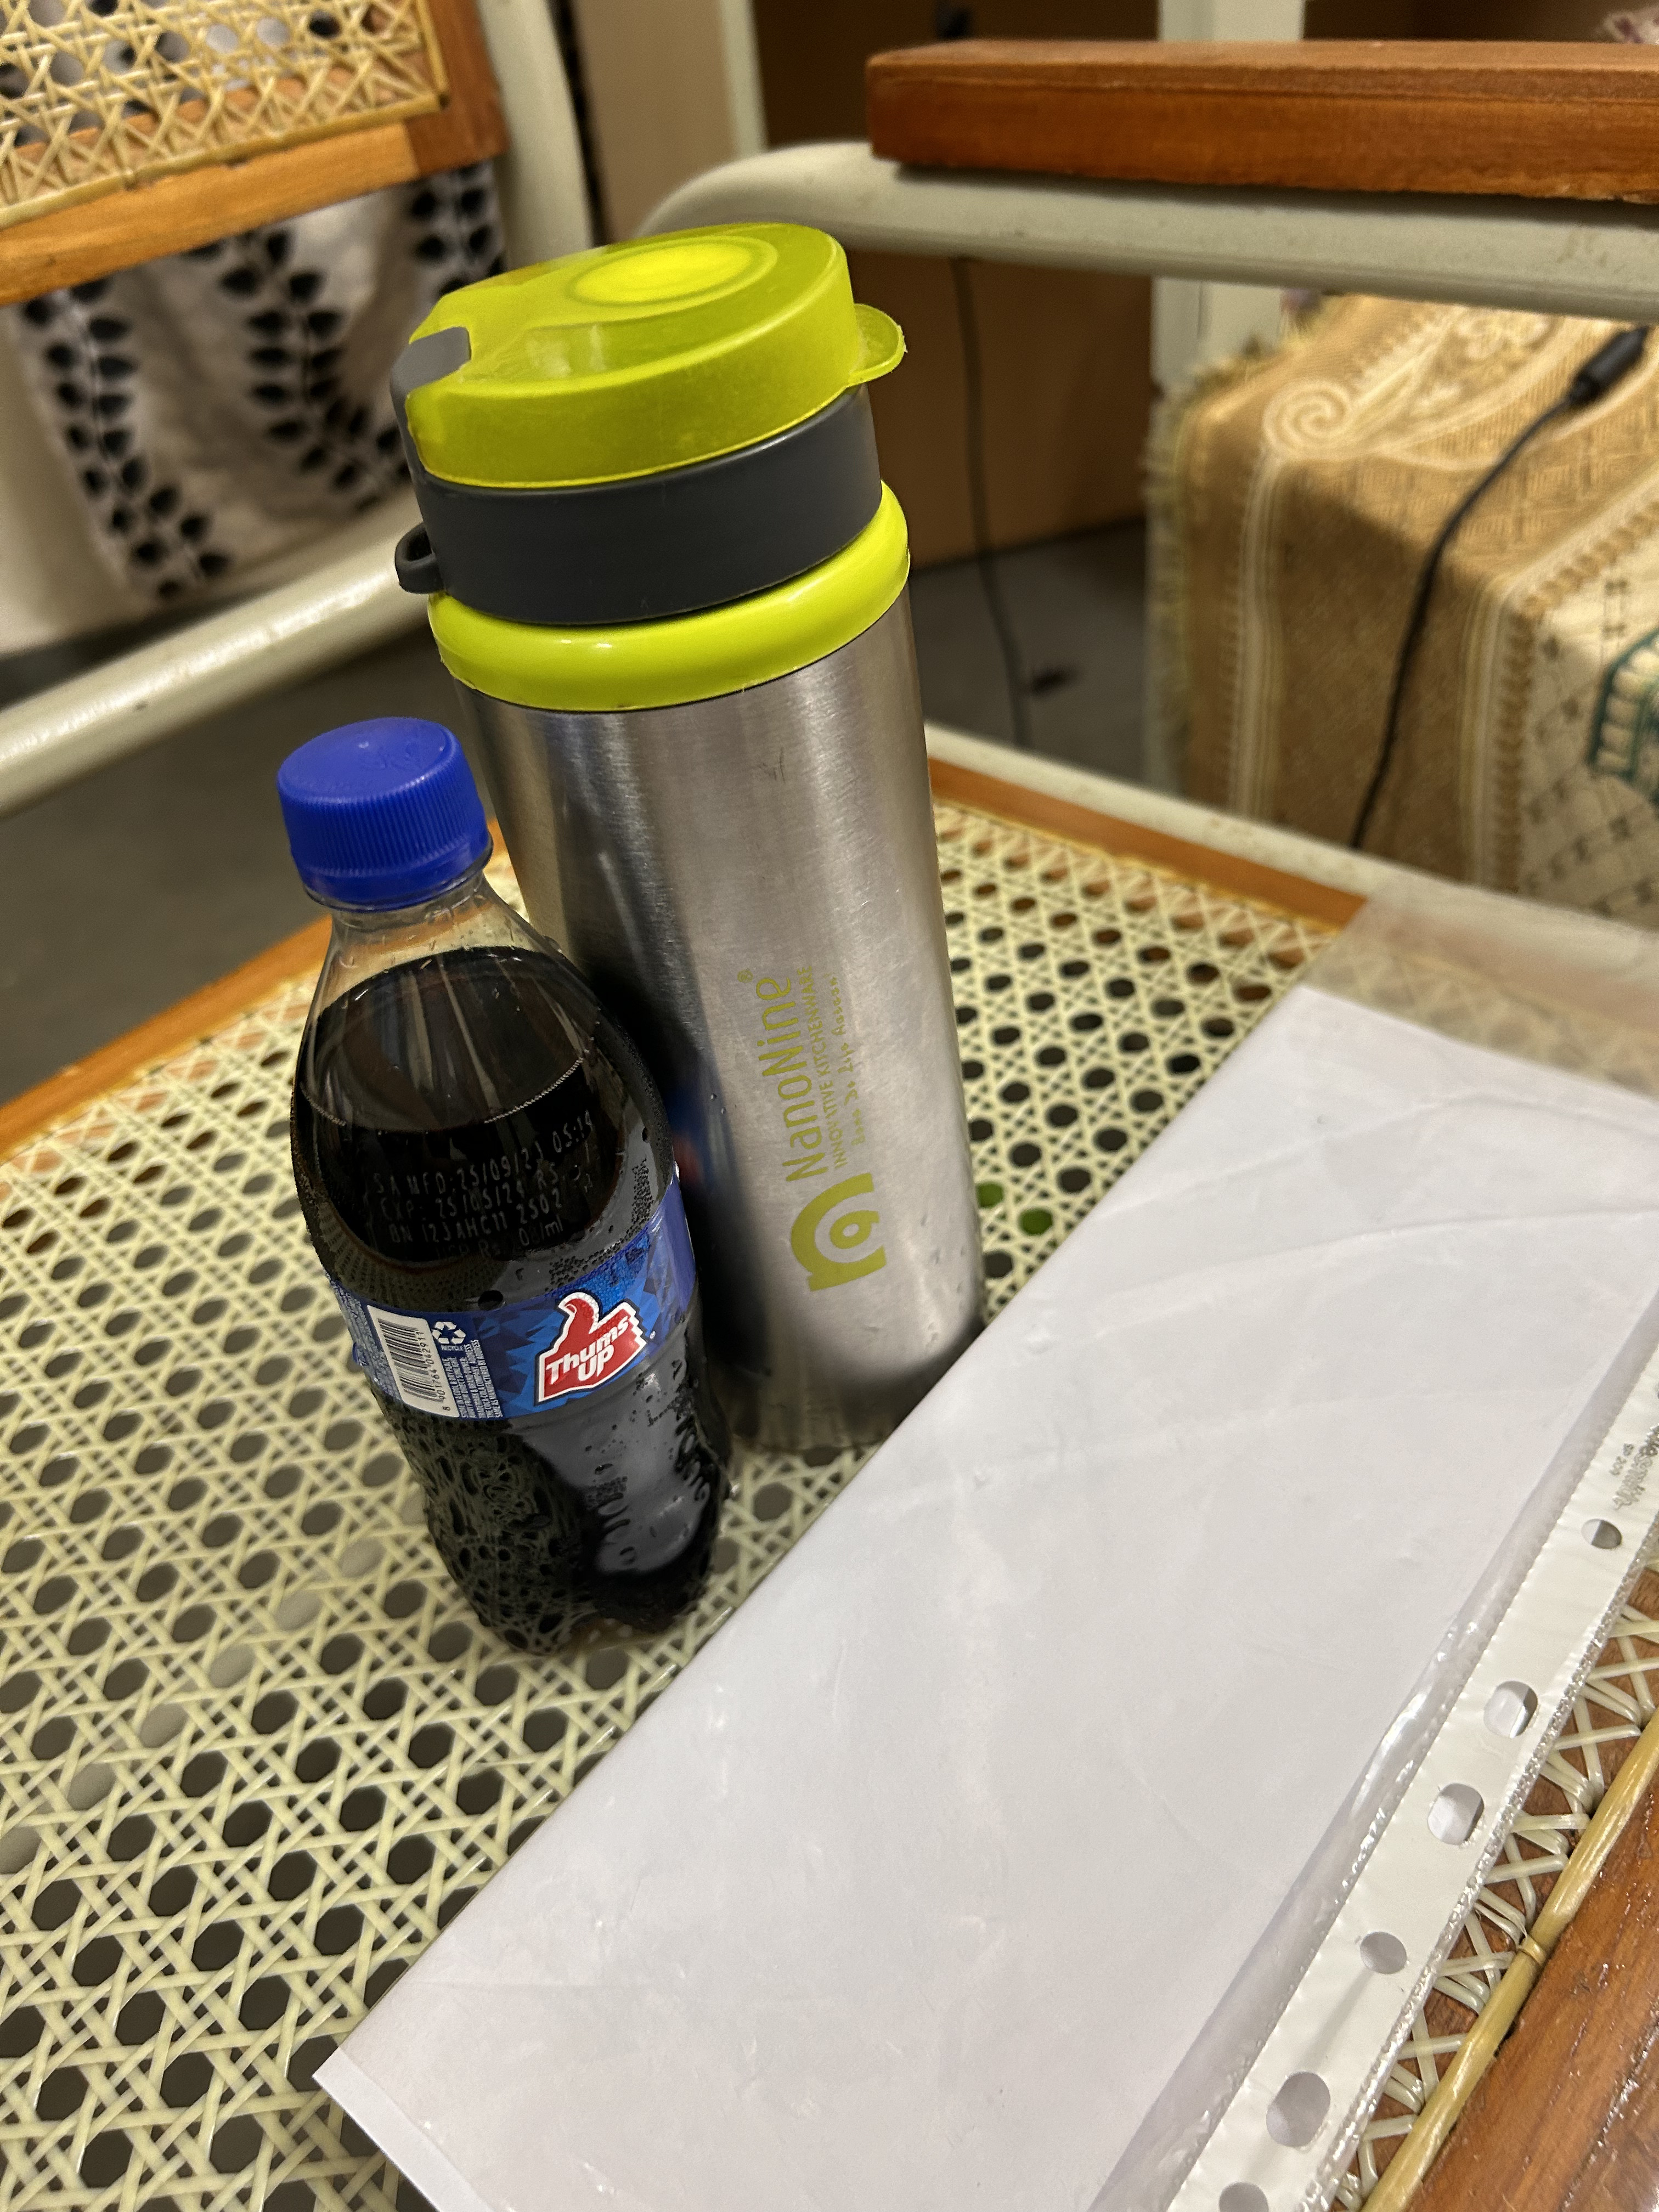sealstable: (270, 733, 516, 1064)
